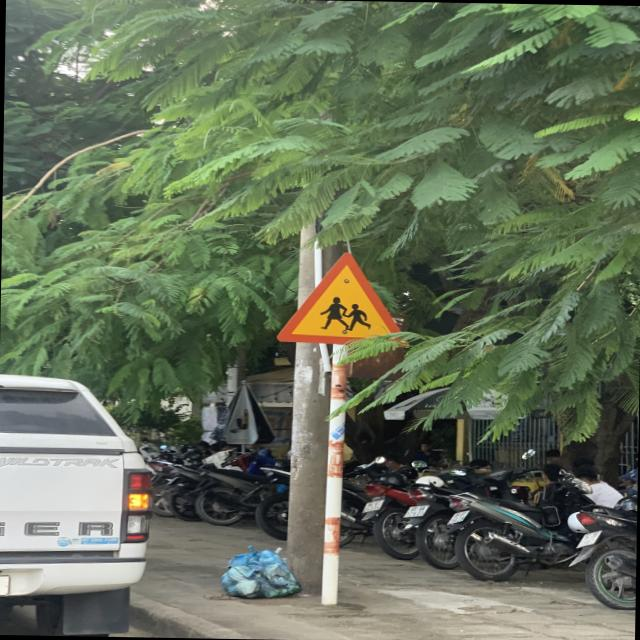Vong_Xuyen: (284, 244, 408, 346)
